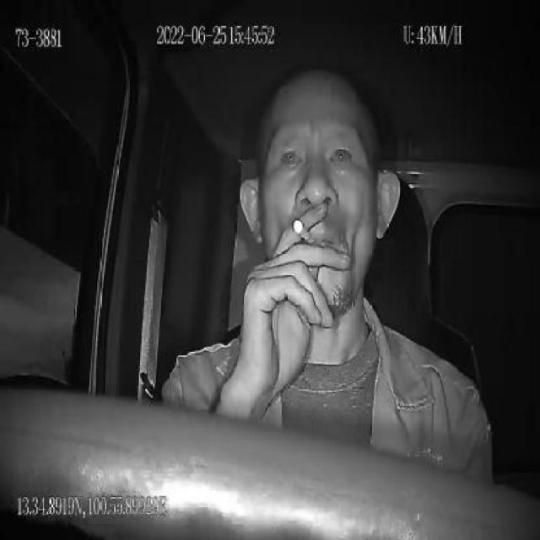smoking: (290, 218, 318, 247)
